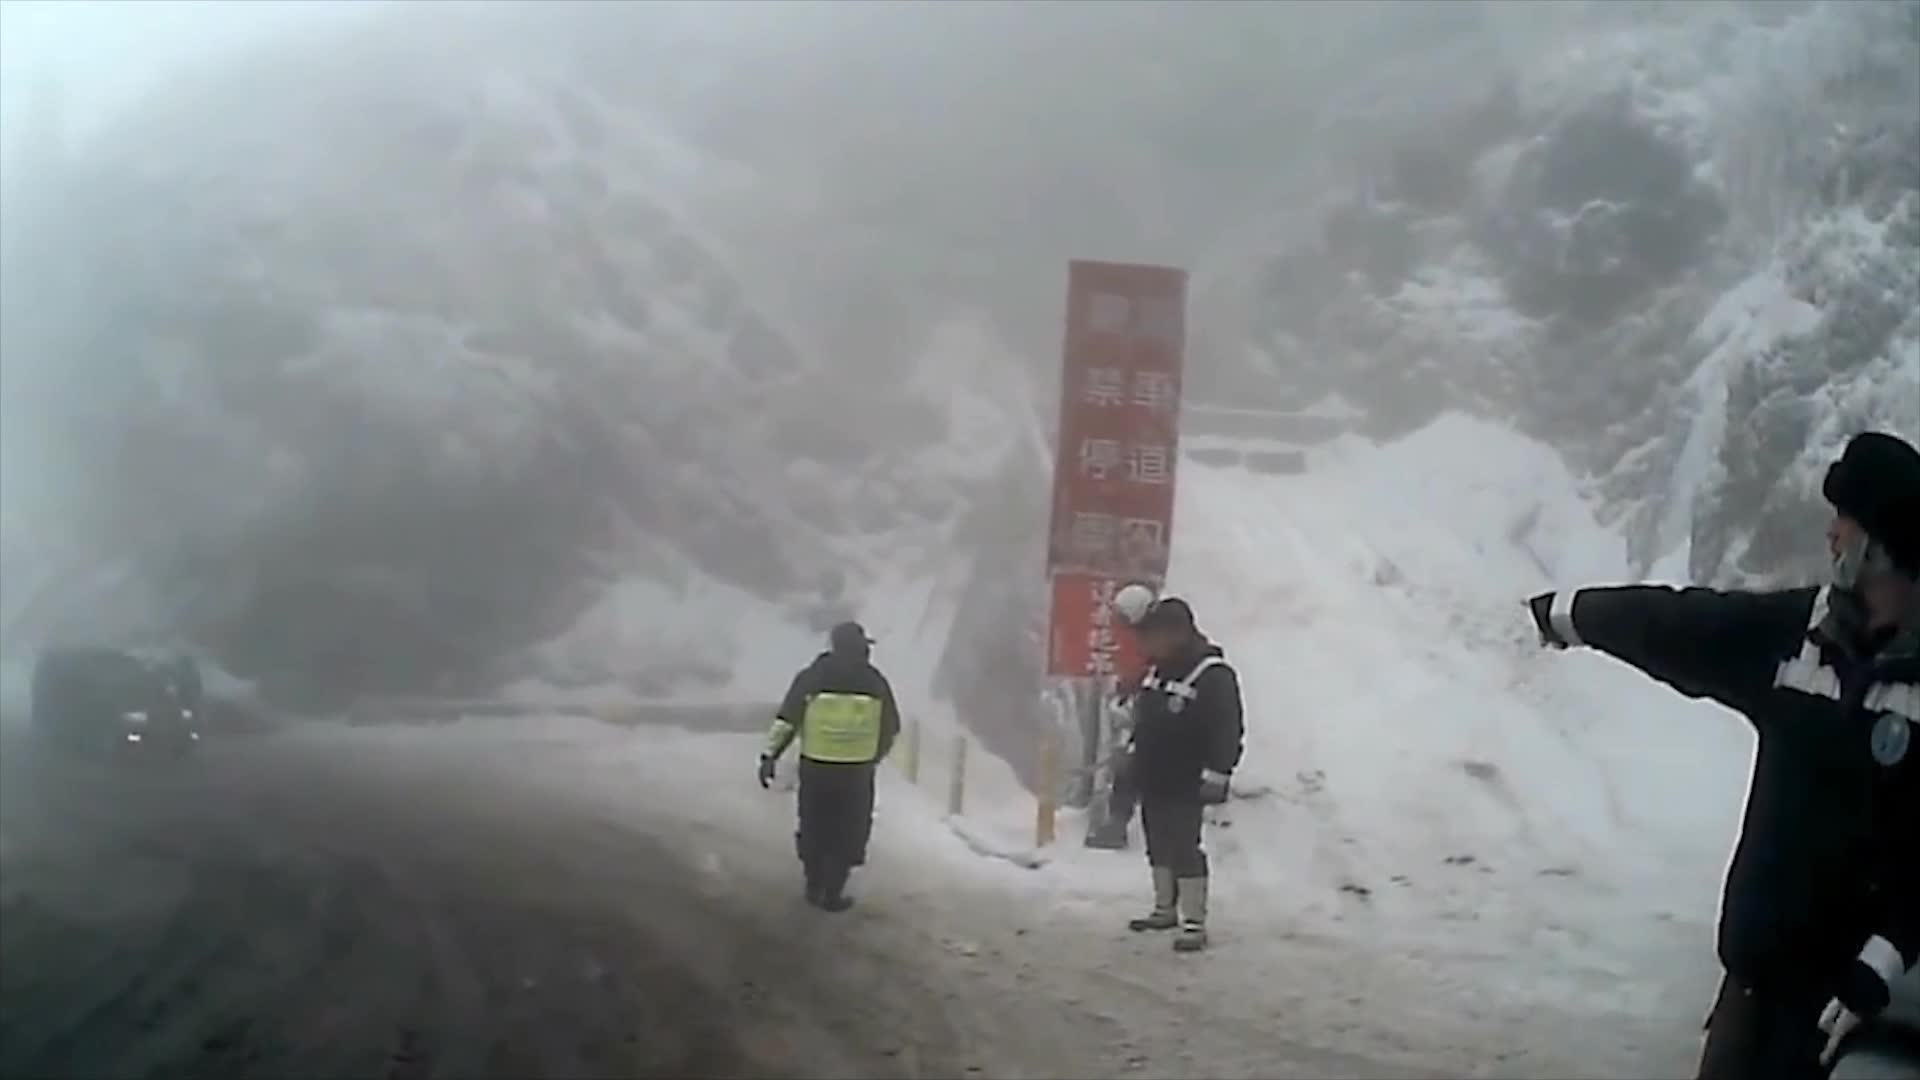pedestrian: (1504, 431, 1920, 1080), (1123, 604, 1246, 956), (754, 633, 899, 917)
vehicle: (29, 645, 199, 767)
